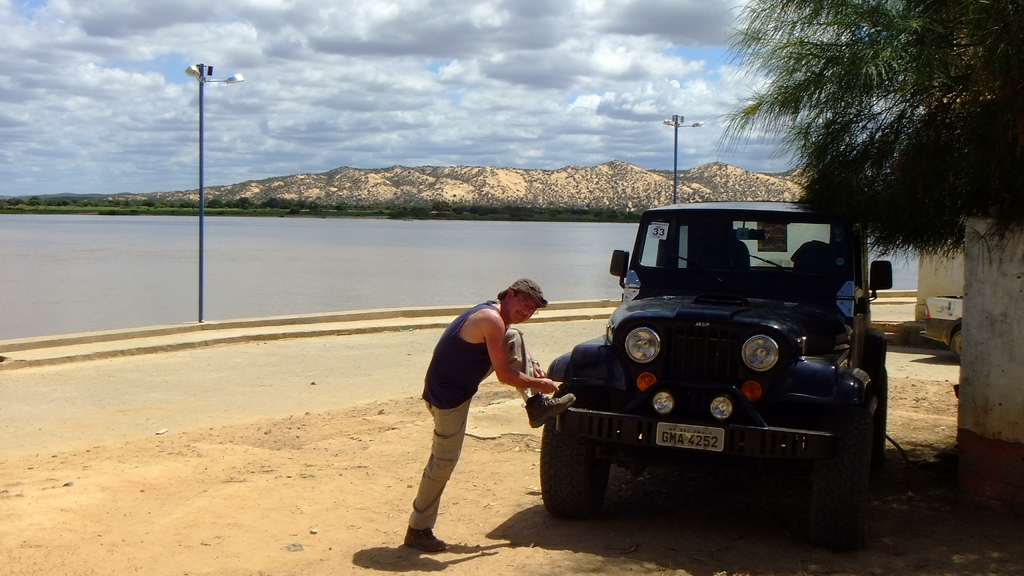cars: (537, 194, 896, 517)
